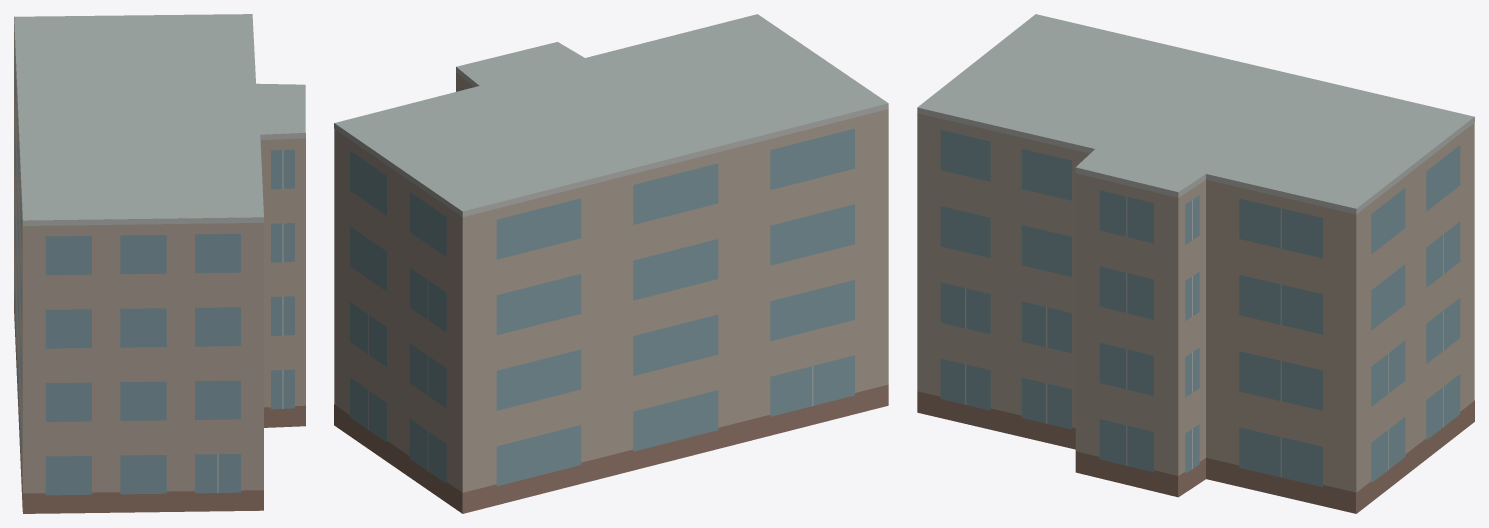
The model's file is survey-upis-32682626.glb.
3 views of the same model, side by side, from view 1: azimuth 30°, elevation 25°; view 2: azimuth 150°, elevation 25°; view 3: azimuth 270°, elevation 25° (orthographic). The views are drawn at different scales.
Visible parts, largest first — view 1: survey-upis-32682626.tmp; view 2: survey-upis-32682626.tmp; view 3: survey-upis-32682626.tmp.
Part boxes in pixels (x1,y1,x2,y2): survey-upis-32682626.tmp: (14, 14, 305, 513); survey-upis-32682626.tmp: (334, 14, 888, 513); survey-upis-32682626.tmp: (917, 14, 1474, 513).
Size of the model in its own units: 17.84 by 13.02 by 21.57.
